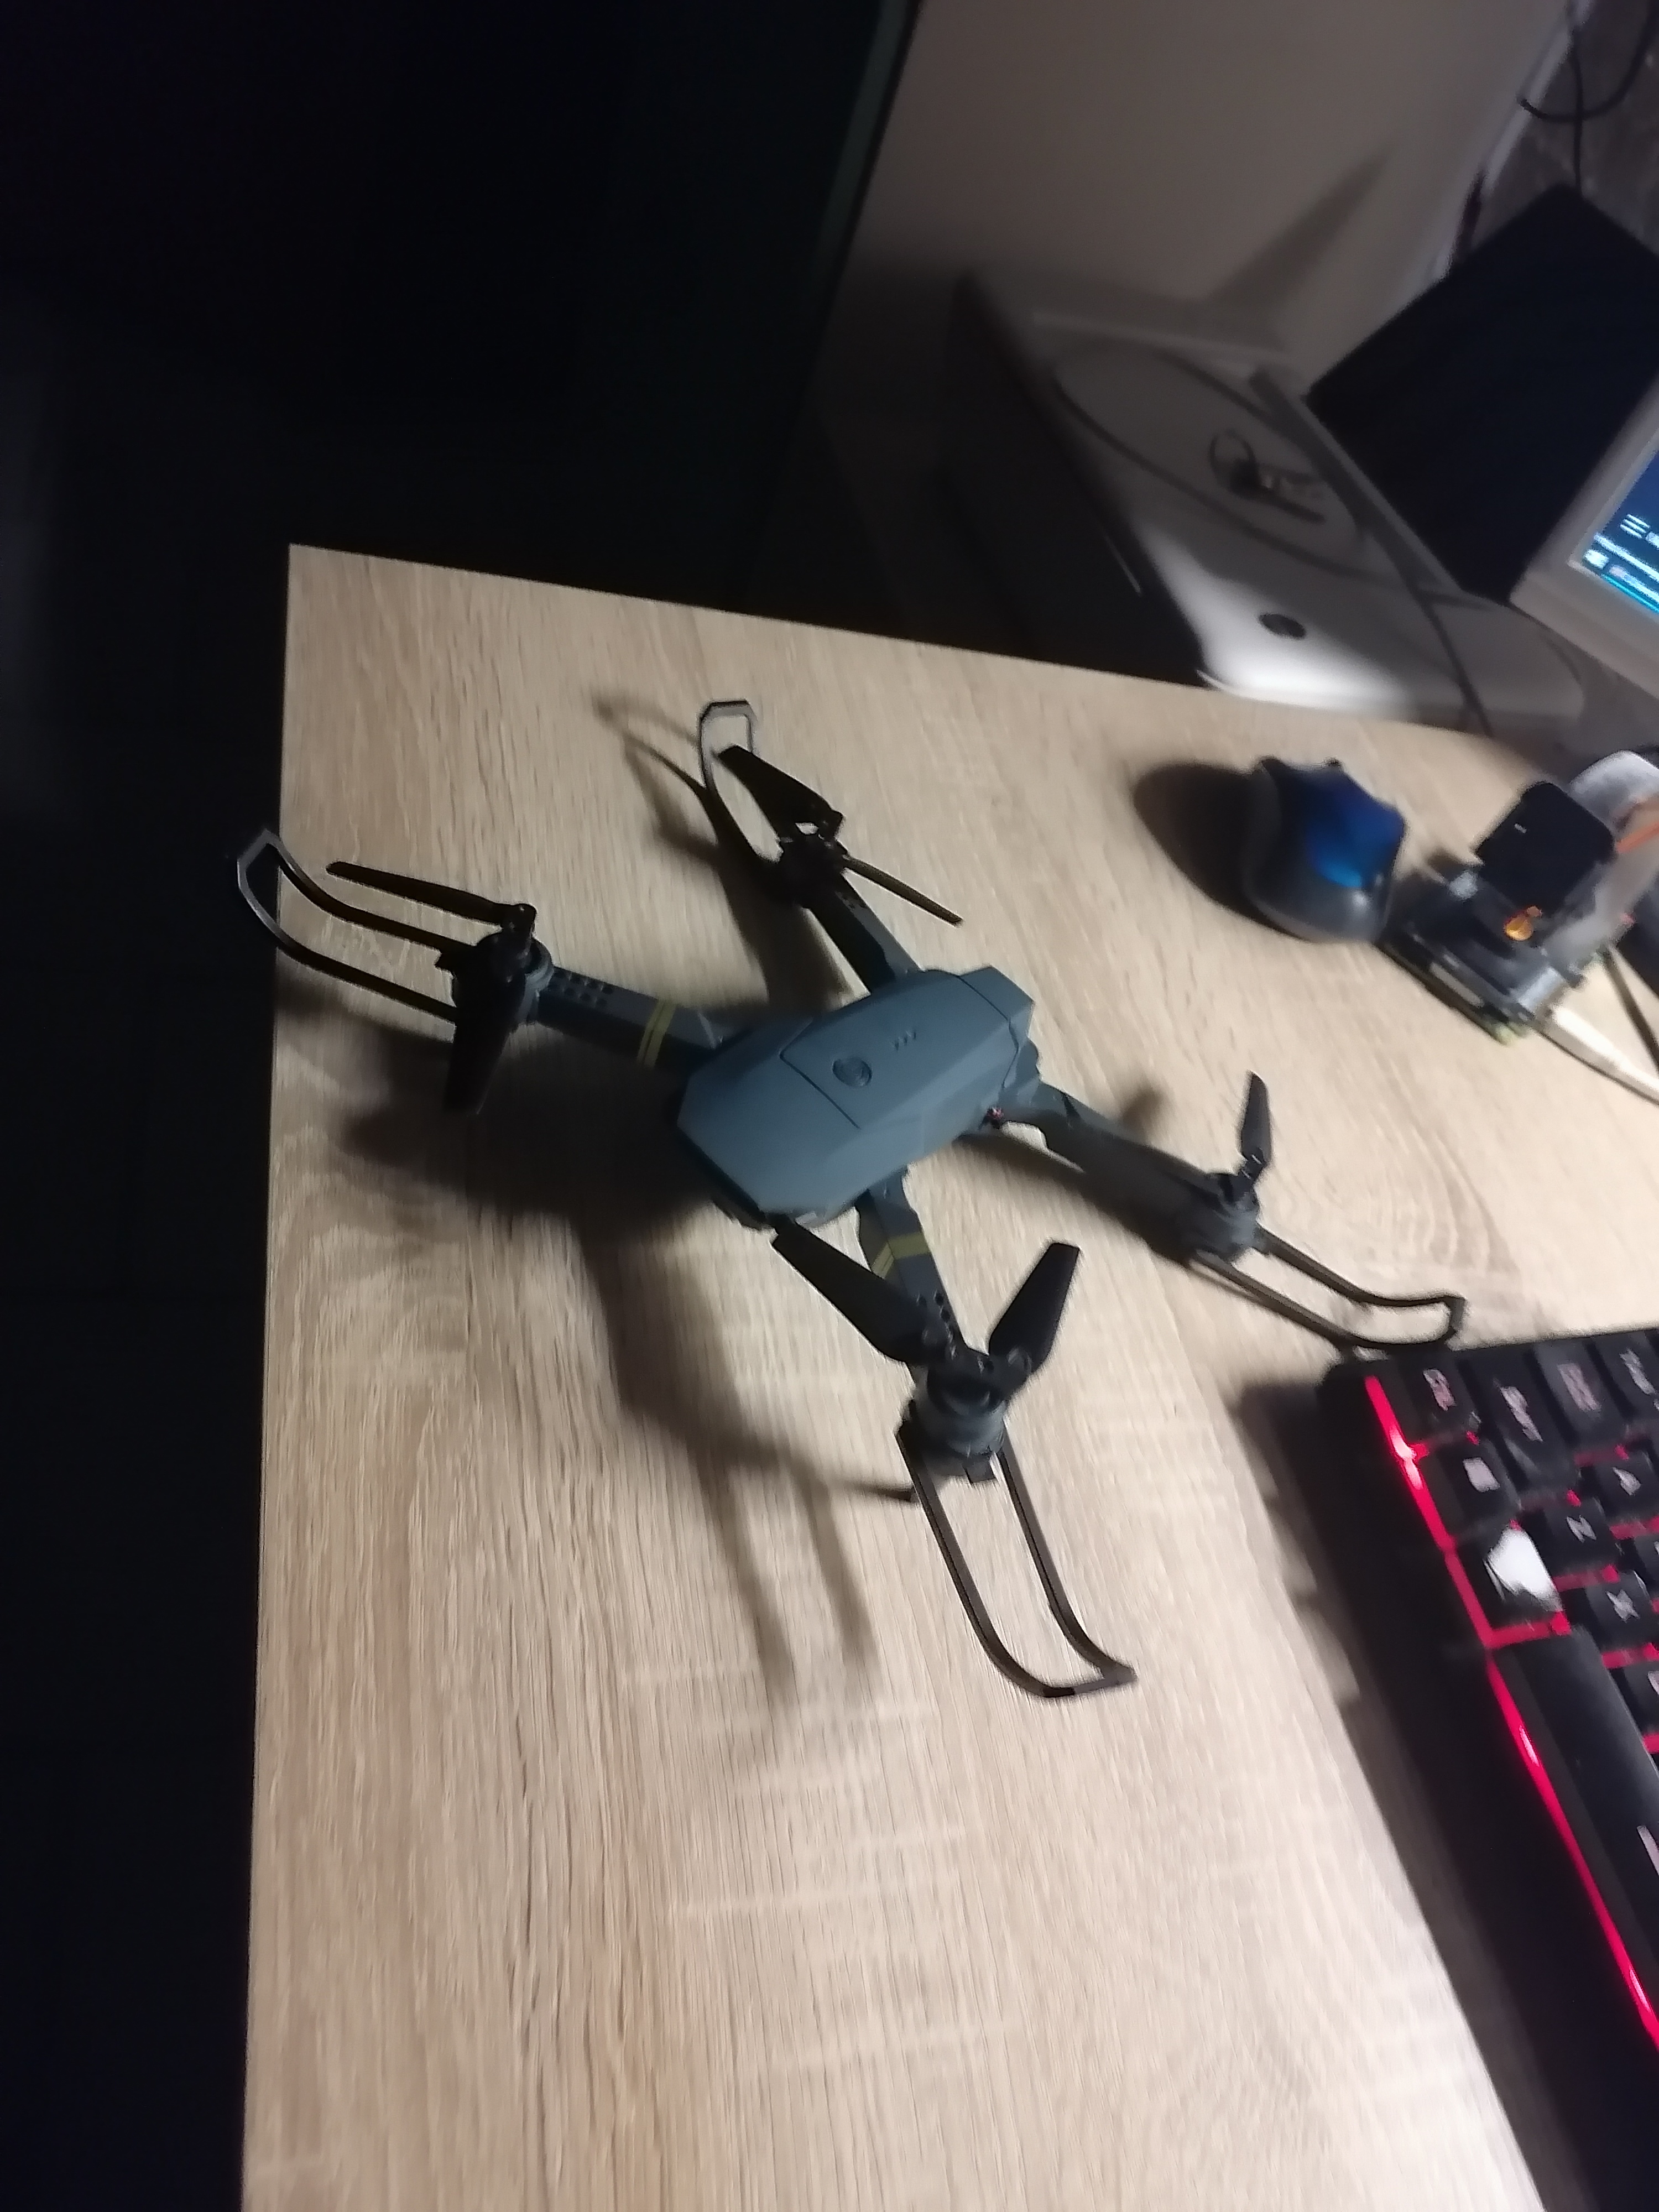drone: (413, 671, 1312, 1710)
